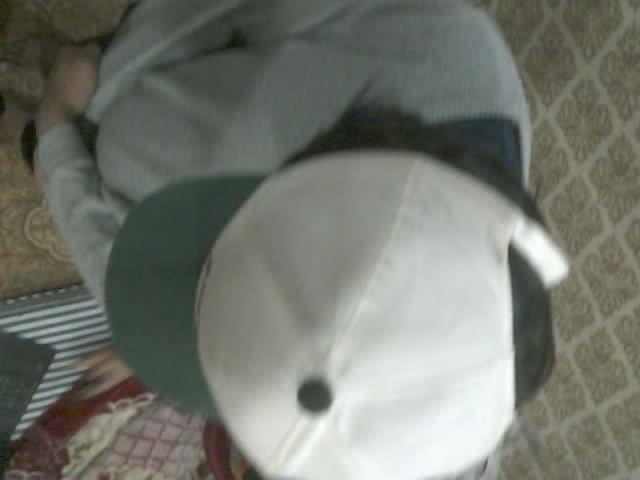cap: (102, 148, 568, 479)
